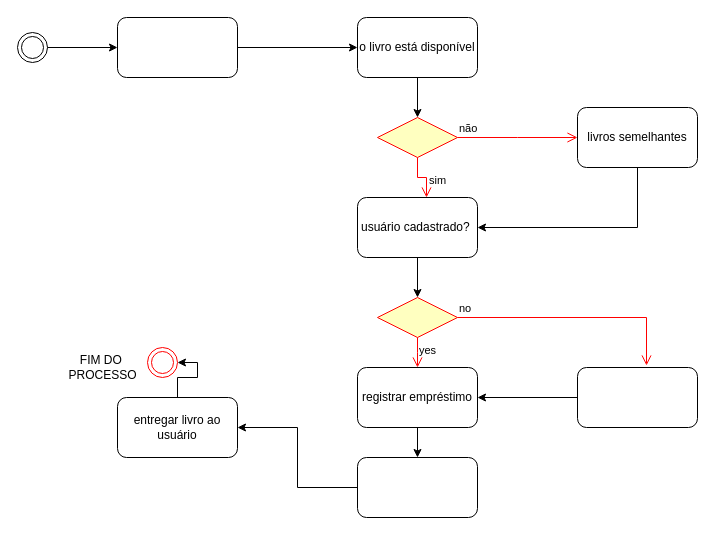
The diagram is 715 pixels wide and 535 high, and some of its shapes have lost their labels. Here are the shapes that lost their labels. From the top down, the centre of each, then its label:
(x=177, y=47): verificar disponibilidade do livro
(x=637, y=397): Criar cadastro
(x=417, y=487): emissão do comprovante
